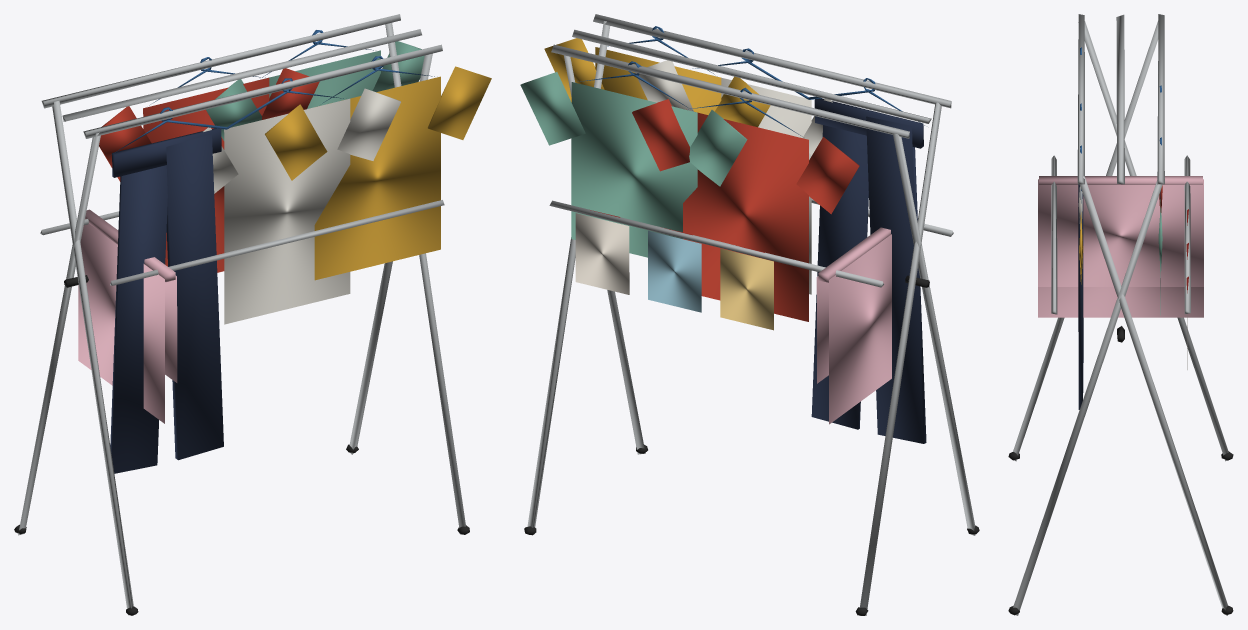
Rendered from gia_phoi.glb.
The picture shows the model from 3 angles, left to right: view 1: azimuth 30°, elevation 25°; view 2: azimuth 150°, elevation 25°; view 3: azimuth 270°, elevation 25°; orthographic projection. The views are drawn at different scales.
Parts seen in each view (by area): view 1: w_do_phoi, w_khung_gia; view 2: w_do_phoi, w_khung_gia; view 3: w_do_phoi, w_khung_gia.
Part boxes in pixels (x1,y1,x2,y2): w_do_phoi: (78,30,491,473); w_khung_gia: (14,14,469,615); w_do_phoi: (520,26,926,443); w_khung_gia: (524,14,979,615); w_do_phoi: (1038,47,1203,409); w_khung_gia: (1008,14,1233,615).
Bounding box in the file's own units: 1.35 × 1.48 × 0.6774.
